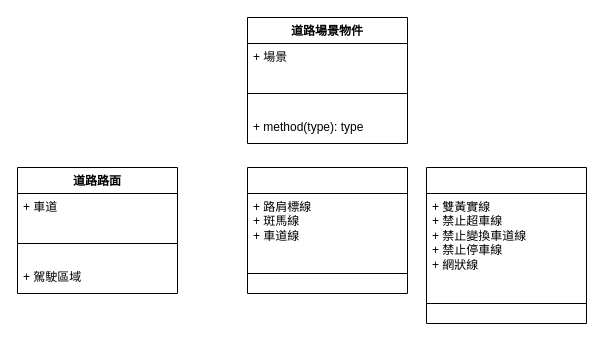
Image size: 604x341. Some labels were removed from this diagram. The box of each missing label's shape, as (x1, y1, x2, y2) in pixels:
白色標線: (246, 166, 408, 294)
黃色標線: (426, 166, 586, 324)
